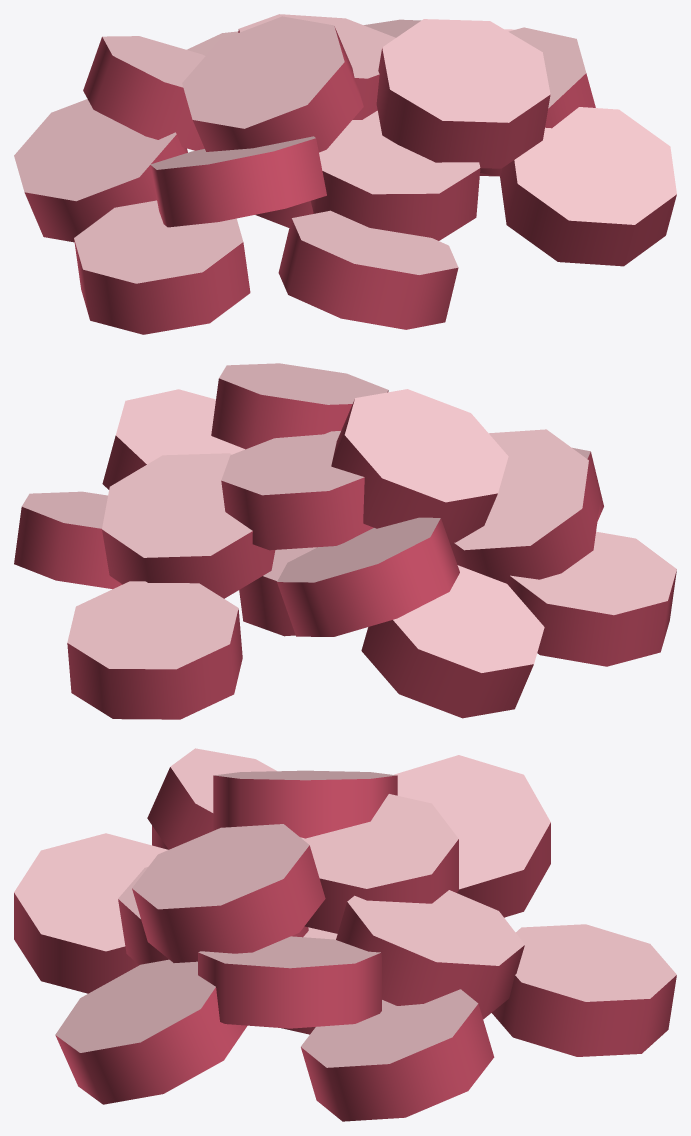
File: octopus_pieces.glb
The picture shows the model from 3 angles, top to bottom: view 1: azimuth 30°, elevation 25°; view 2: azimuth 150°, elevation 25°; view 3: azimuth 270°, elevation 25°; orthographic projection. The views are drawn at different scales.
Parts seen in each view (by area): view 1: octopus_pieces_a, octopus_pieces_c, octopus_pieces_b; view 2: octopus_pieces_a, octopus_pieces_b, octopus_pieces_c; view 3: octopus_pieces_a, octopus_pieces_b, octopus_pieces_c.
Boxes of the visible parts, box(x1,y1,x2,y2) form: octopus_pieces_a: box(14, 29, 676, 334); octopus_pieces_c: box(182, 14, 550, 168); octopus_pieces_b: box(83, 19, 595, 240); octopus_pieces_a: box(14, 447, 676, 719); octopus_pieces_b: box(102, 389, 599, 636); octopus_pieces_c: box(211, 363, 508, 550); octopus_pieces_a: box(14, 825, 676, 1121); octopus_pieces_b: box(118, 748, 550, 1028); octopus_pieces_c: box(132, 770, 458, 962).
Size of the model in its own units: 0.2211 by 0.0777 by 0.2161.
